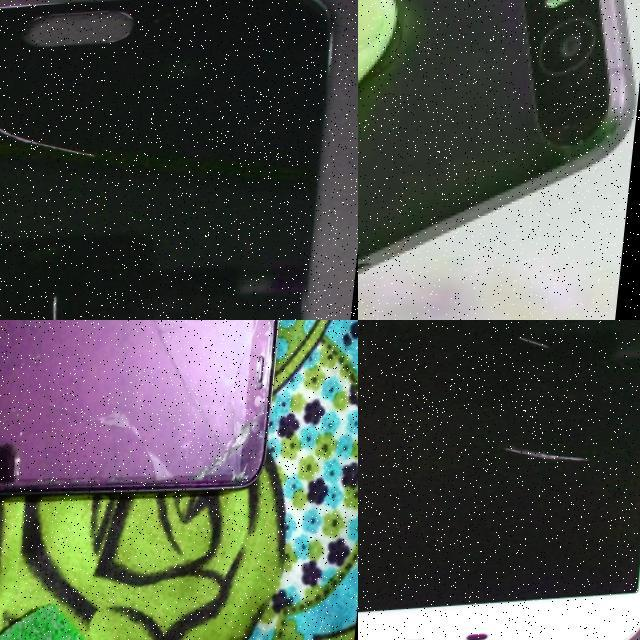scratch: (0, 112, 120, 188), (506, 441, 611, 484), (18, 281, 130, 320), (514, 337, 564, 364)
screen crack: (86, 320, 280, 507)
